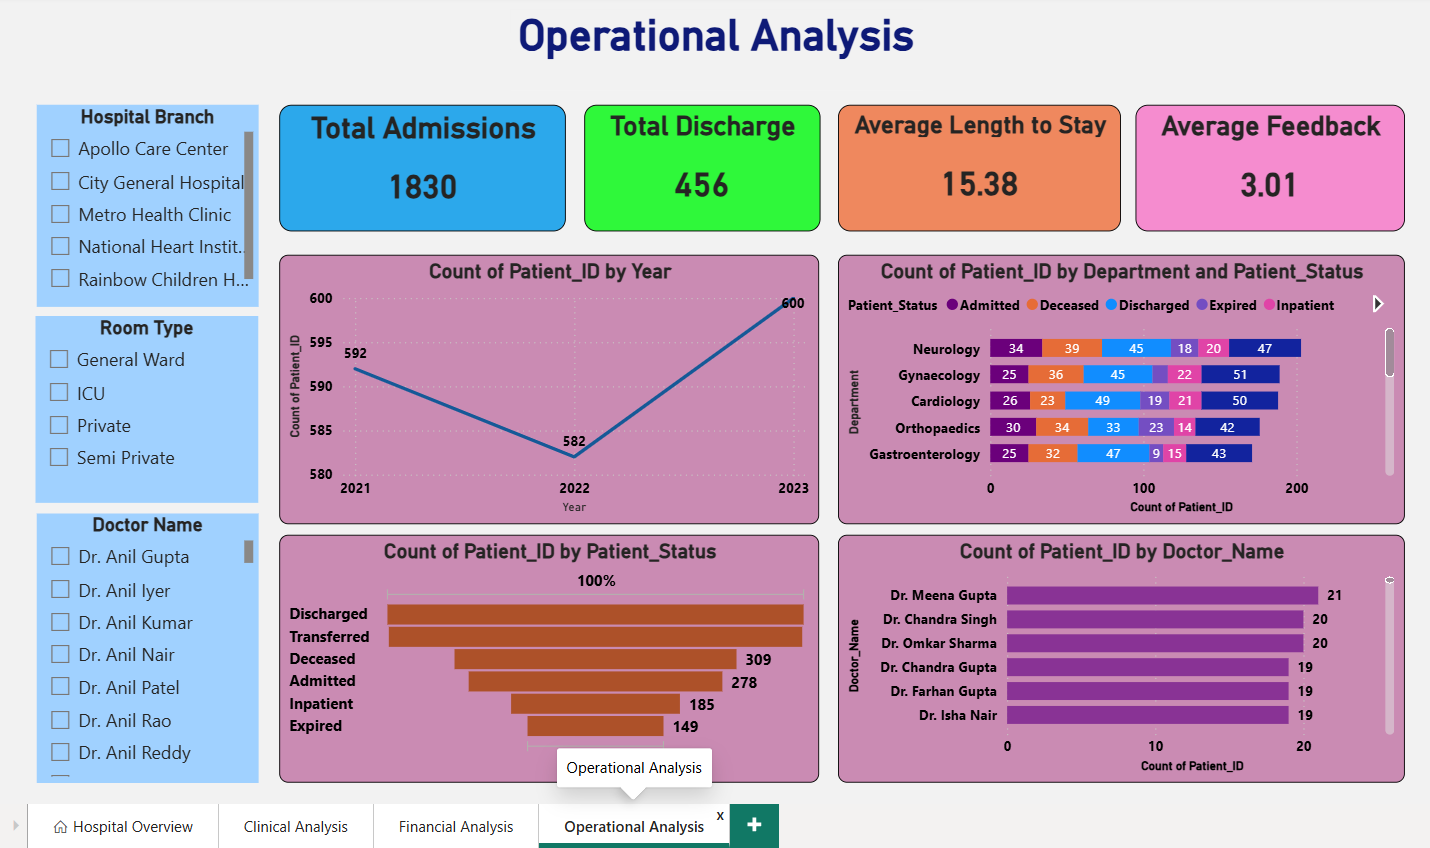

Layout of this report page (visuals, bound fields, positions):
{"tool":"powerbi","page":{"name":"Operational Analysis","canvas":[1280,720],"ordinal":3},"visuals":[{"type":"slicer","title":"Hospital Branch","fields":{"Values":["Raw_Patient_Data.Hospital_Branch"]},"box":[34.5,97.2,197.5,180.2],"z":0},{"type":"slicer","title":"Room Type","fields":{"Values":["Raw_Patient_Data.Room_Type"]},"box":[33,284.9,198.1,166.3],"z":1000},{"type":"slicer","title":"Doctor Name","fields":{"Values":["Raw_Patient_Data.Doctor_Name"]},"box":[34.5,460.8,197.5,239.8],"z":2000},{"type":"card","title":"Total Admissions","fields":{"Values":["Raw_Patient_Data.Total Admission"]},"box":[250.8,97.2,255.5,112.8],"z":3000},{"type":"card","title":"Total Discharge","fields":{"Values":["Raw_Patient_Data.Total Discharge"]},"box":[521.9,97.2,210,112.8],"z":4000},{"type":"card","title":"Average Length to Stay","fields":{"Values":["Raw_Patient_Data.Average Length of Stay"]},"box":[747.6,97.2,252.3,112.8],"z":5000},{"type":"card","title":"Average Feedback","fields":{"Values":["Raw_Patient_Data.Average Feedback"]},"box":[1012.4,97.2,239.8,112.8],"z":6000},{"type":"lineChart","fields":{"Category":["Raw_Patient_Data.Admission_Date.Variation.Date Hierarchy.Year","Raw_Patient_Data.Admission_Date.Variation.Date Hierarchy.Quarter","Raw_Patient_Data.Admission_Date.Variation.Date Hierarchy.Month","Raw_Patient_Data.Admission_Date.Variation.Date Hierarchy.Day"],"Y":["CountNonNull(Raw_Patient_Data.Patient_ID)"]},"box":[250.8,230.4,481.1,239.8],"z":7000},{"type":"funnel","fields":{"Category":["Raw_Patient_Data.Patient_Status"],"Y":["CountNonNull(Raw_Patient_Data.Patient_ID)"]},"box":[250.8,479.6,481.1,221],"z":8000},{"type":"barChart","fields":{"Category":["Raw_Patient_Data.Department"],"Y":["CountNonNull(Raw_Patient_Data.Patient_ID)"],"Series":["Raw_Patient_Data.Patient_Status"]},"box":[747.6,230.4,504.7,239.8],"z":9000},{"type":"clusteredBarChart","fields":{"Y":["CountNonNull(Raw_Patient_Data.Patient_ID)"],"Category":["Raw_Patient_Data.Doctor_Name"]},"box":[747.6,479.6,504.7,221],"z":10000},{"type":"textbox","title":"Operational Analysis","box":[456.6,12.5,366.7,61.1],"z":11000}]}

Visuals, with their boxes on the page's 1280x720 design canvas (x1, y1, x2, y2). These are canvas units, not pixel positions in the 1430x848 screenshot, which may show the page scaled, cropped or inside an application window:
"Hospital Branch" slicer: bbox=(34, 97, 232, 277)
"Room Type" slicer: bbox=(33, 285, 231, 451)
"Doctor Name" slicer: bbox=(34, 461, 232, 701)
"Total Admissions" card: bbox=(251, 97, 506, 210)
"Total Discharge" card: bbox=(522, 97, 732, 210)
"Average Length to Stay" card: bbox=(748, 97, 1000, 210)
"Average Feedback" card: bbox=(1012, 97, 1252, 210)
lineChart - Raw_Patient_Data.Admission_Date.Variation.Date Hierarchy.Year x Raw_Patient_Data.Admission_Date.Variation.Date Hierarchy.Quarter: bbox=(251, 230, 732, 470)
funnel - Raw_Patient_Data.Patient_Status x CountNonNull(Raw_Patient_Data.Patient_ID): bbox=(251, 480, 732, 701)
barChart - Raw_Patient_Data.Department x CountNonNull(Raw_Patient_Data.Patient_ID): bbox=(748, 230, 1252, 470)
clusteredBarChart - CountNonNull(Raw_Patient_Data.Patient_ID) x Raw_Patient_Data.Doctor_Name: bbox=(748, 480, 1252, 701)
"Operational Analysis" textbox: bbox=(457, 12, 823, 74)
